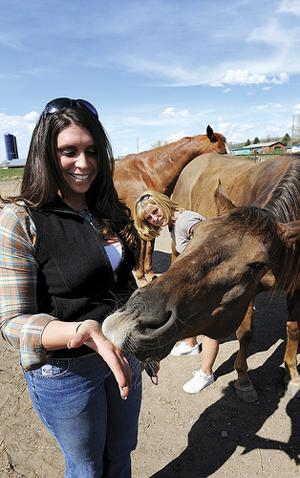person: (2, 96, 144, 478)
